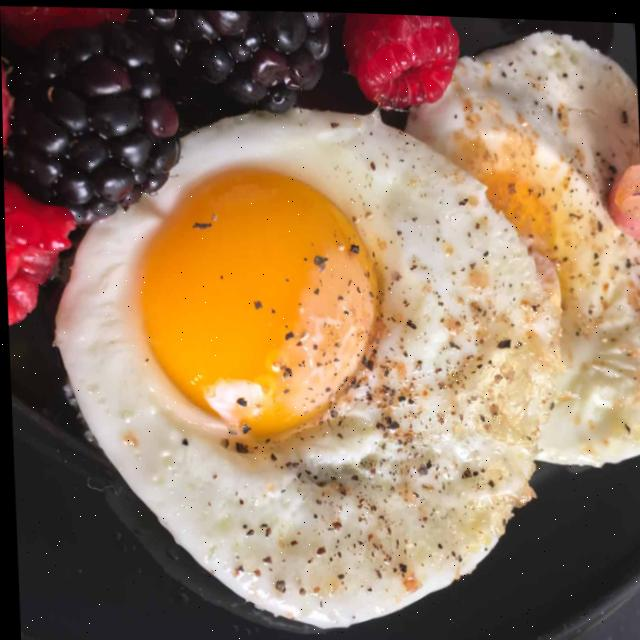Egg: (53, 108, 558, 624), (405, 27, 640, 461)
